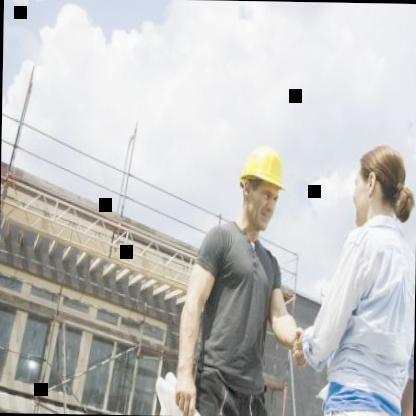head: (343, 135, 416, 237)
helmet: (236, 138, 290, 235)
